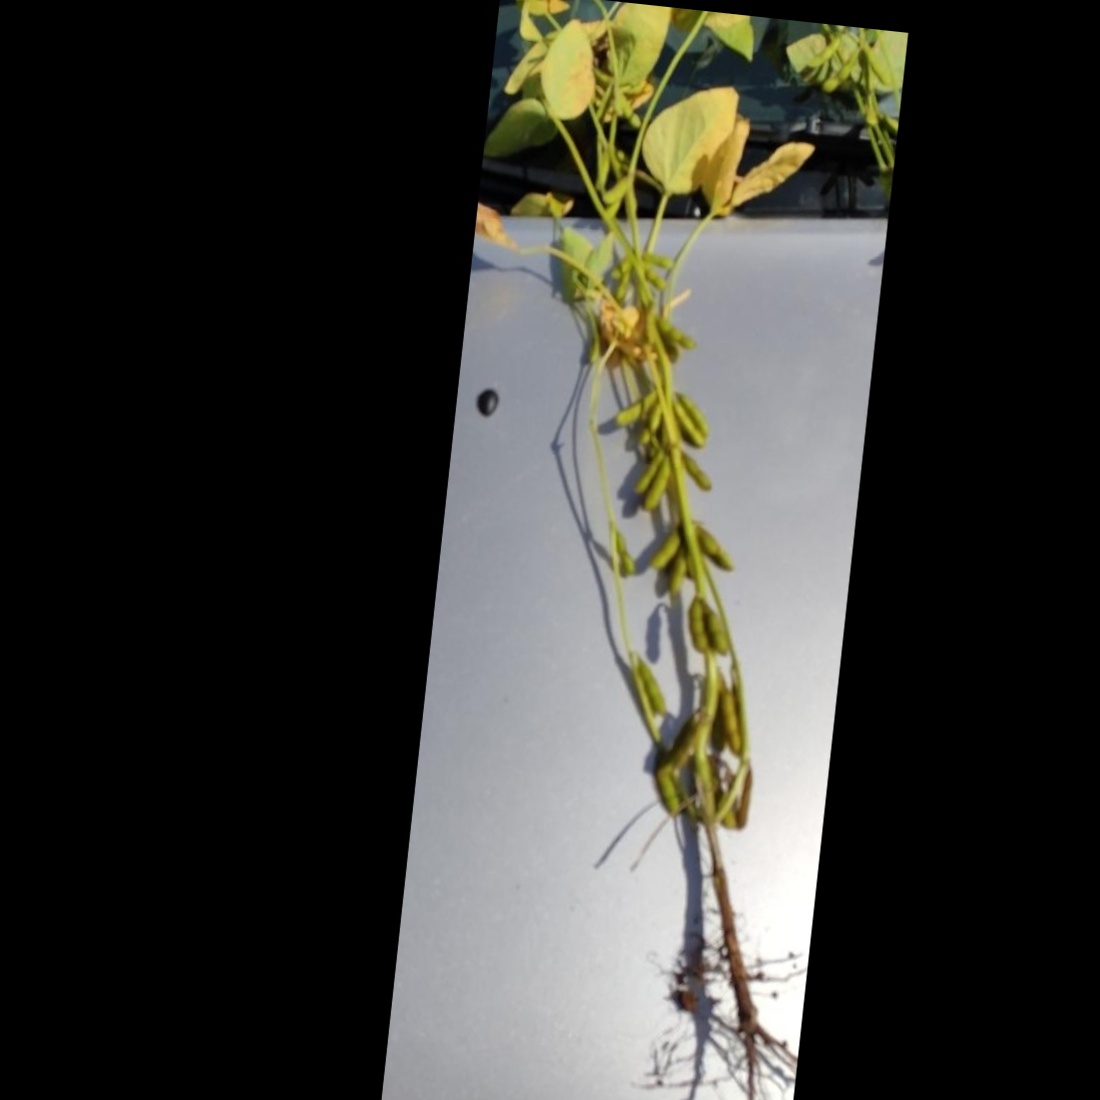pod: (624, 647, 673, 725), (664, 390, 717, 444), (665, 392, 710, 454), (682, 591, 716, 670), (637, 454, 679, 518), (605, 383, 658, 432), (646, 520, 684, 576), (655, 311, 706, 353), (700, 601, 735, 657), (598, 171, 639, 213), (612, 531, 639, 576)
soy: (398, 0, 900, 1100)
